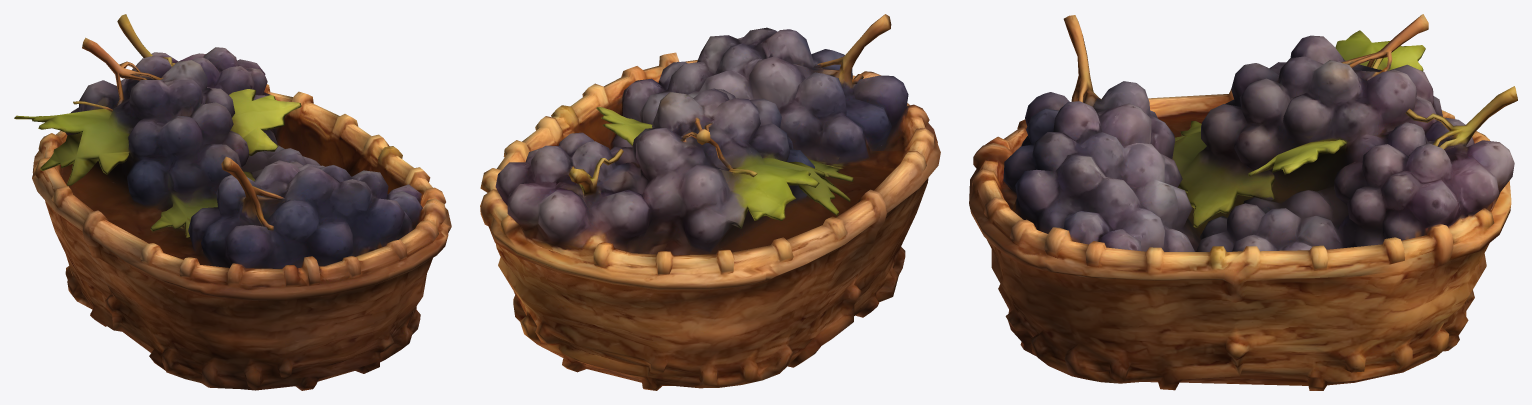
3 renders of one model, left to right at view 1: azimuth 30°, elevation 25°; view 2: azimuth 150°, elevation 25°; view 3: azimuth 270°, elevation 25°, orthographic. The views are drawn at different scales.
Visible parts, largest first — view 1: tripo_node_2e3925cc-3664-406b-afc0-0660dfa34547; view 2: tripo_node_2e3925cc-3664-406b-afc0-0660dfa34547; view 3: tripo_node_2e3925cc-3664-406b-afc0-0660dfa34547.
Boxes of the visible parts, x1,y1,x2,y2 form: tripo_node_2e3925cc-3664-406b-afc0-0660dfa34547: [14, 14, 451, 390]; tripo_node_2e3925cc-3664-406b-afc0-0660dfa34547: [480, 14, 940, 390]; tripo_node_2e3925cc-3664-406b-afc0-0660dfa34547: [969, 14, 1517, 390].
Bounding box in the file's own units: 0.7559 × 0.5605 × 0.998.
1 material, 1 textured.
